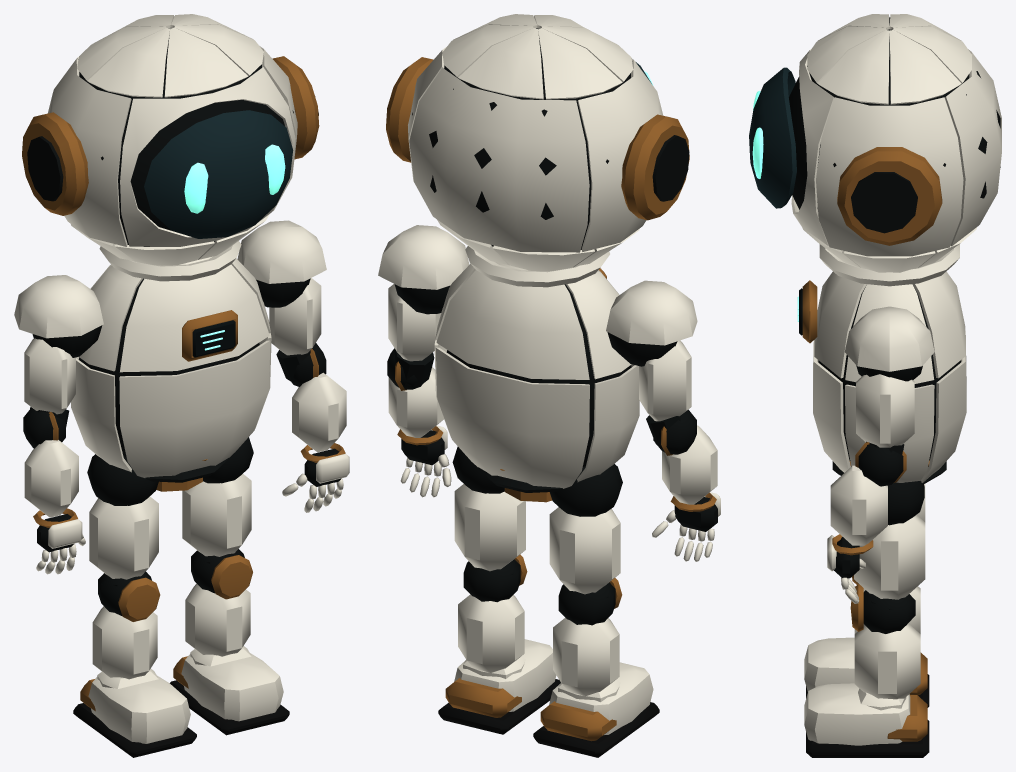
The model's file is hero-robot.lod1.glb.
3 renders of one model, left to right at view 1: azimuth 30°, elevation 25°; view 2: azimuth 150°, elevation 25°; view 3: azimuth 270°, elevation 25°, orthographic. The views are drawn at different scales.
Visible parts, largest first — view 1: robot_Ceramic • warm ivory, Head_Ceramic • warm ivory, Head_Faceplate • deep teal glass, Head_Trim • graphite and brass, Arm.L_Ceramic • warm ivory, Arm.R_Ceramic • warm ivory, Foot.R_Ceramic • warm ivory, Foot.L_Ceramic • warm ivory, Leg.L_Ceramic • warm ivory, robot_Trim • graphite and brass, Leg.R_Ceramic • warm ivory, Shin.L_Ceramic • warm ivory (+16 smaller); view 2: Head_Ceramic • warm ivory, robot_Ceramic • warm ivory, Head_Trim • graphite and brass, Arm.L_Ceramic • warm ivory, Arm.R_Ceramic • warm ivory, Leg.L_Ceramic • warm ivory, Leg.R_Ceramic • warm ivory, Shin.R_Ceramic • warm ivory, Shin.L_Ceramic • warm ivory, Foot.L_Trim • graphite and brass, Foot.R_Trim • graphite and brass, Foot.L_Ceramic • warm ivory (+16 smaller); view 3: Head_Ceramic • warm ivory, robot_Ceramic • warm ivory, Head_Trim • graphite and brass, Arm.R_Ceramic • warm ivory, Foot.R_Ceramic • warm ivory, Head_Faceplate • deep teal glass, Shin.R_Ceramic • warm ivory, Leg.R_Ceramic • warm ivory, Forearm.R_Ceramic • warm ivory, Foot.R_Trim • graphite and brass, Foot.L_Ceramic • warm ivory, robot_Trim • graphite and brass (+8 smaller).
Part boxes in pixels (left/top/right/bottom): robot_Ceramic • warm ivory: left=71, top=241, right=271, bottom=477; Head_Ceramic • warm ivory: left=47, top=14, right=297, bottom=265; Head_Faceplate • deep teal glass: left=144, top=110, right=293, bottom=238; Head_Trim • graphite and brass: left=22, top=28, right=319, bottom=246; Arm.L_Ceramic • warm ivory: left=14, top=275, right=103, bottom=414; Arm.R_Ceramic • warm ivory: left=237, top=220, right=326, bottom=355; Foot.R_Ceramic • warm ivory: left=181, top=646, right=283, bottom=721; Foot.L_Ceramic • warm ivory: left=88, top=669, right=190, bottom=743; Leg.L_Ceramic • warm ivory: left=89, top=496, right=158, bottom=579; robot_Trim • graphite and brass: left=78, top=278, right=259, bottom=491; Leg.R_Ceramic • warm ivory: left=182, top=474, right=251, bottom=556; Shin.L_Ceramic • warm ivory: left=92, top=606, right=157, bottom=679; Head_Ceramic • warm ivory: left=408, top=14, right=663, bottom=271; robot_Ceramic • warm ivory: left=434, top=246, right=639, bottom=488; Head_Trim • graphite and brass: left=386, top=28, right=689, bottom=249; Arm.L_Ceramic • warm ivory: left=606, top=280, right=697, bottom=421; Arm.R_Ceramic • warm ivory: left=378, top=225, right=469, bottom=361; Leg.L_Ceramic • warm ivory: left=549, top=507, right=620, bottom=594; Leg.R_Ceramic • warm ivory: left=454, top=484, right=525, bottom=571; Shin.R_Ceramic • warm ivory: left=458, top=594, right=524, bottom=672; Shin.L_Ceramic • warm ivory: left=553, top=617, right=619, bottom=696; Foot.L_Trim • graphite and brass: left=533, top=701, right=659, bottom=757; Foot.R_Trim • graphite and brass: left=438, top=678, right=560, bottom=734; Foot.L_Ceramic • warm ivory: left=549, top=662, right=653, bottom=734; Head_Ceramic • warm ivory: left=791, top=14, right=1001, bottom=272; robot_Ceramic • warm ivory: left=813, top=244, right=966, bottom=482; Head_Trim • graphite and brass: left=789, top=17, right=1000, bottom=245; Arm.R_Ceramic • warm ivory: left=845, top=306, right=934, bottom=447; Foot.R_Ceramic • warm ivory: left=804, top=683, right=910, bottom=745; Head_Faceplate • deep teal glass: left=749, top=67, right=796, bottom=208; Shin.R_Ceramic • warm ivory: left=854, top=623, right=920, bottom=699; Leg.R_Ceramic • warm ivory: left=854, top=515, right=925, bottom=599; Forearm.R_Ceramic • warm ivory: left=830, top=465, right=887, bottom=545; Foot.R_Trim • graphite and brass: left=806, top=695, right=929, bottom=757; Foot.L_Ceramic • warm ivory: left=804, top=637, right=854, bottom=691; robot_Trim • graphite and brass: left=799, top=280, right=960, bottom=483.
Size of the model in its own units: 0.848 by 1.76 by 0.5833.
Materials: 4 (1 with a texture image).
